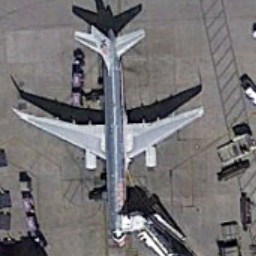Airplane: (4, 19, 208, 251)
